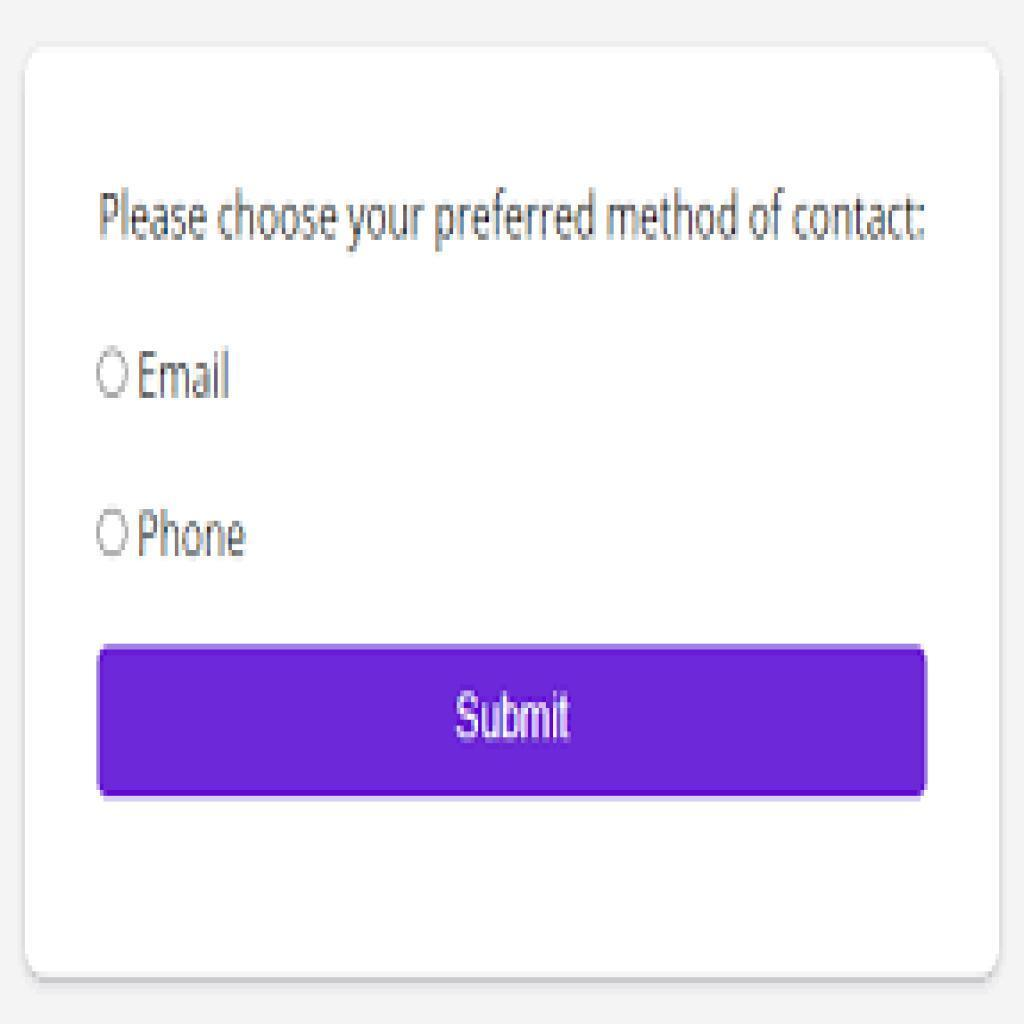button: (99, 649, 925, 795)
label: (135, 502, 254, 560), (135, 345, 243, 406)
radio: (94, 343, 135, 403), (92, 505, 132, 561)
